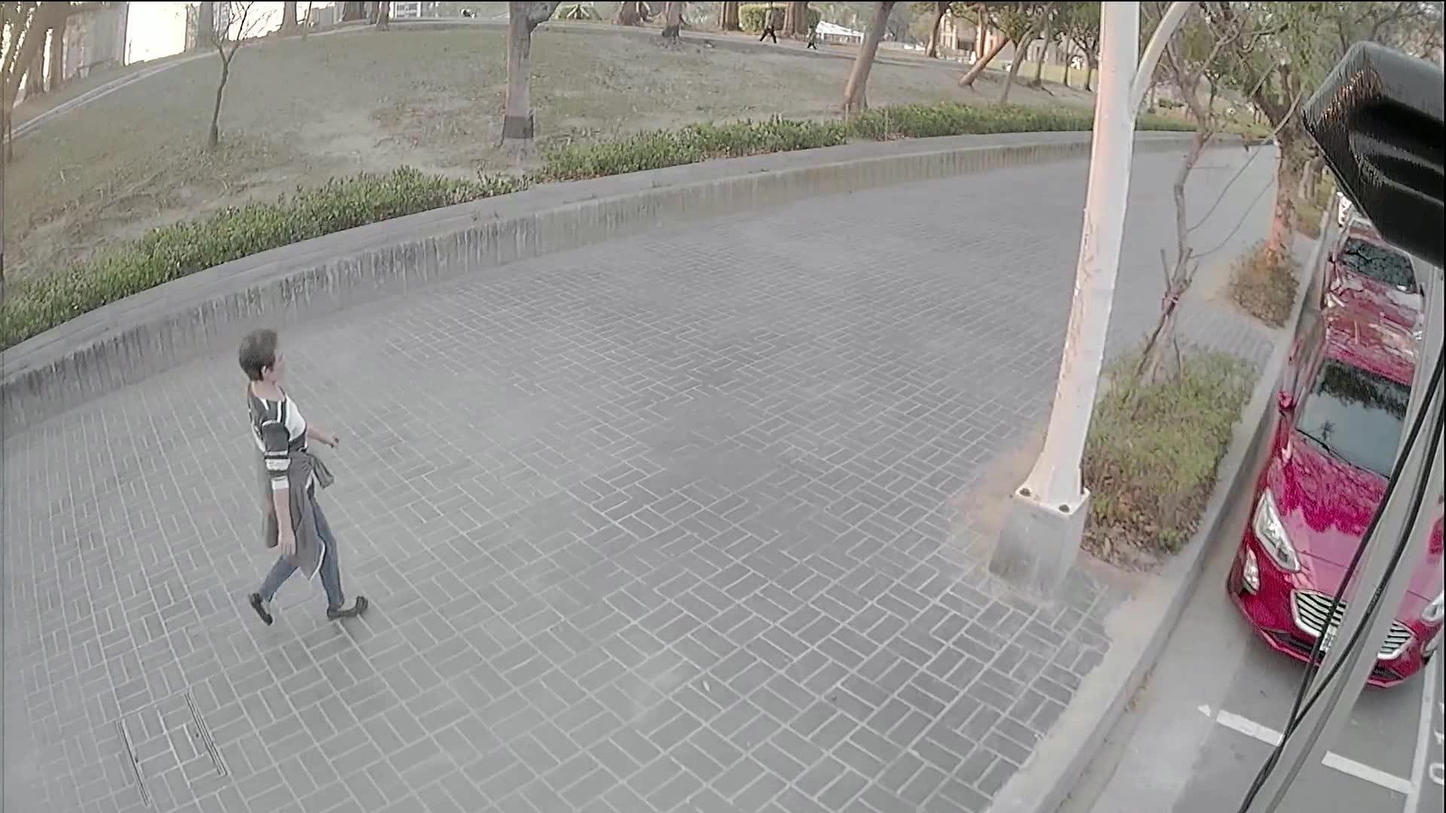person: (237, 327, 366, 621)
